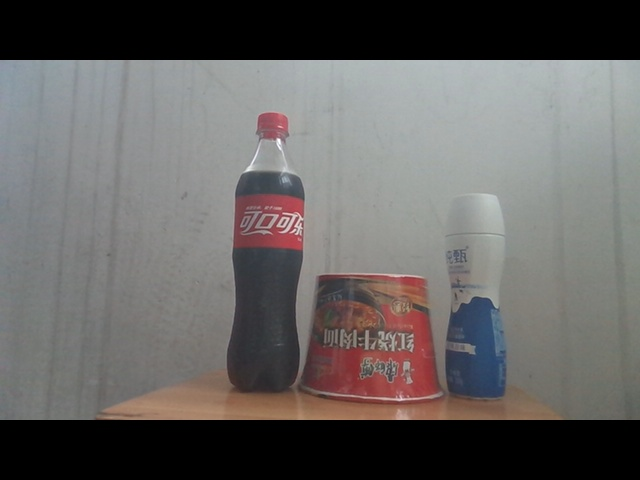cola: (226, 112, 306, 392)
kangshifu: (304, 273, 446, 403)
yogurt: (444, 193, 509, 404)
